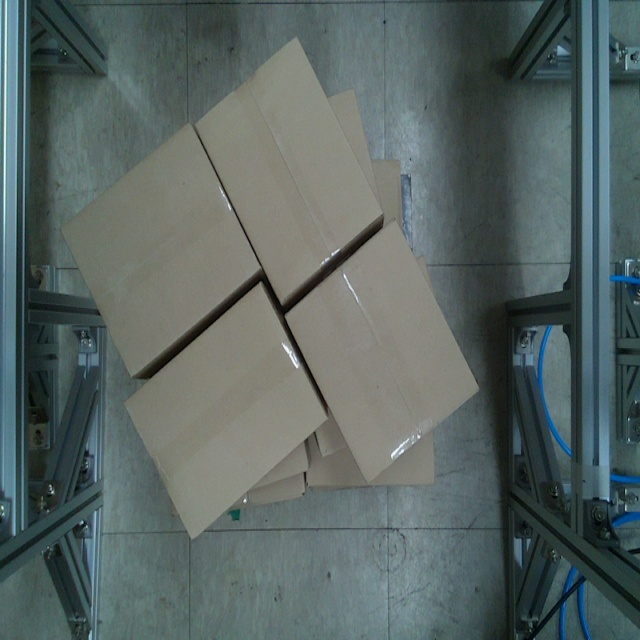box: (121, 279, 327, 547), (281, 215, 482, 489), (57, 119, 260, 383), (194, 36, 386, 311)
